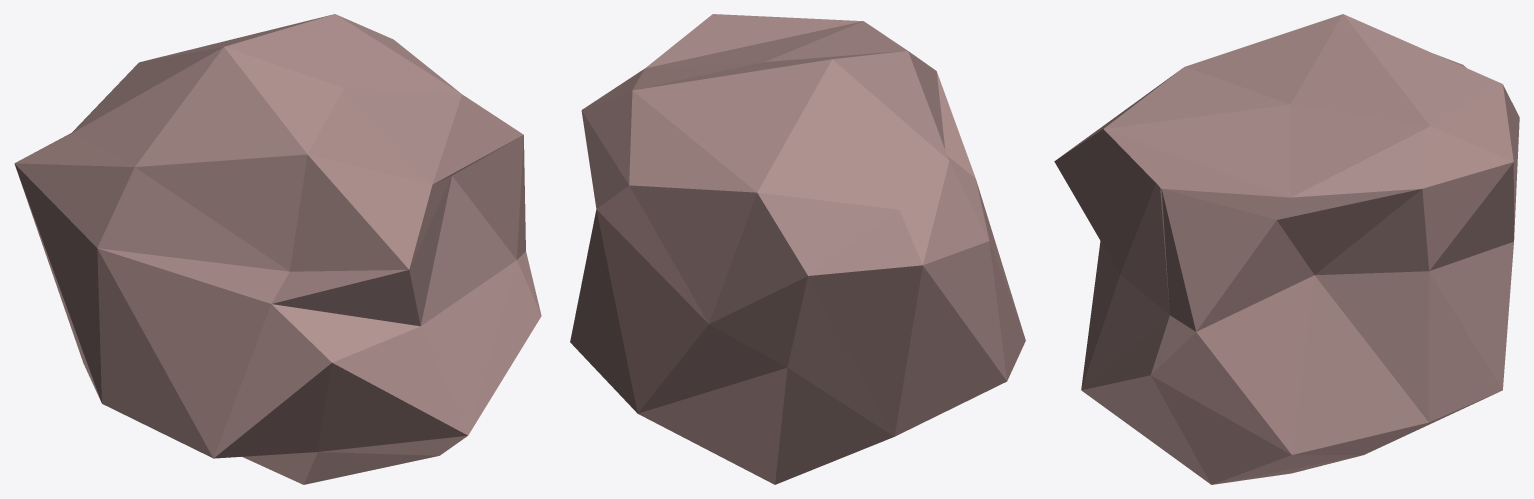
The model's file is Stone2.fbx.
3 renders of one model, left to right at view 1: azimuth 30°, elevation 25°; view 2: azimuth 150°, elevation 25°; view 3: azimuth 270°, elevation 25°, orthographic.
Parts seen in each view (by area): view 1: stone2; view 2: stone2; view 3: stone2.
Part boxes in pixels (x1,y1,x2,y2): stone2: (14,14,541,484); stone2: (570,14,1025,484); stone2: (1054,14,1519,484).
Size of the model in its own units: 175 by 183 by 179.
